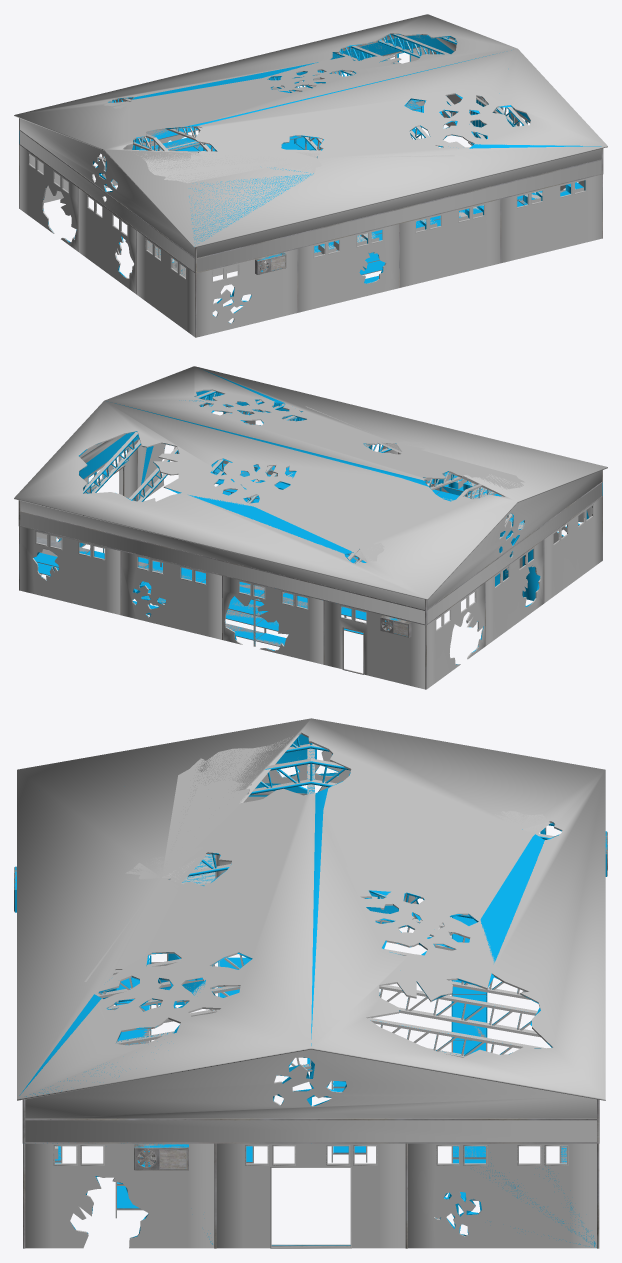
File: Warehouse.fbx
3 renders of one model, top to bottom at view 1: azimuth 30°, elevation 25°; view 2: azimuth 150°, elevation 25°; view 3: azimuth 270°, elevation 25°, orthographic. The views are drawn at different scales.
Parts seen in each view (by area): view 1: Warehouse_LOD0, UTM_Colider; view 2: Warehouse_LOD0, UTM_Colider; view 3: Warehouse_LOD0, UTM_Colider.
Boxes of the visible parts, x1,y1,x2,y2 form: Warehouse_LOD0: (14,14,607,337); UTM_Colider: (19,34,601,323); Warehouse_LOD0: (14,366,607,689); UTM_Colider: (33,368,602,664); Warehouse_LOD0: (14,718,607,1248); UTM_Colider: (14,734,607,1247).
Size of what is drawn, in the model's own units: 3017 by 866 by 2288.
